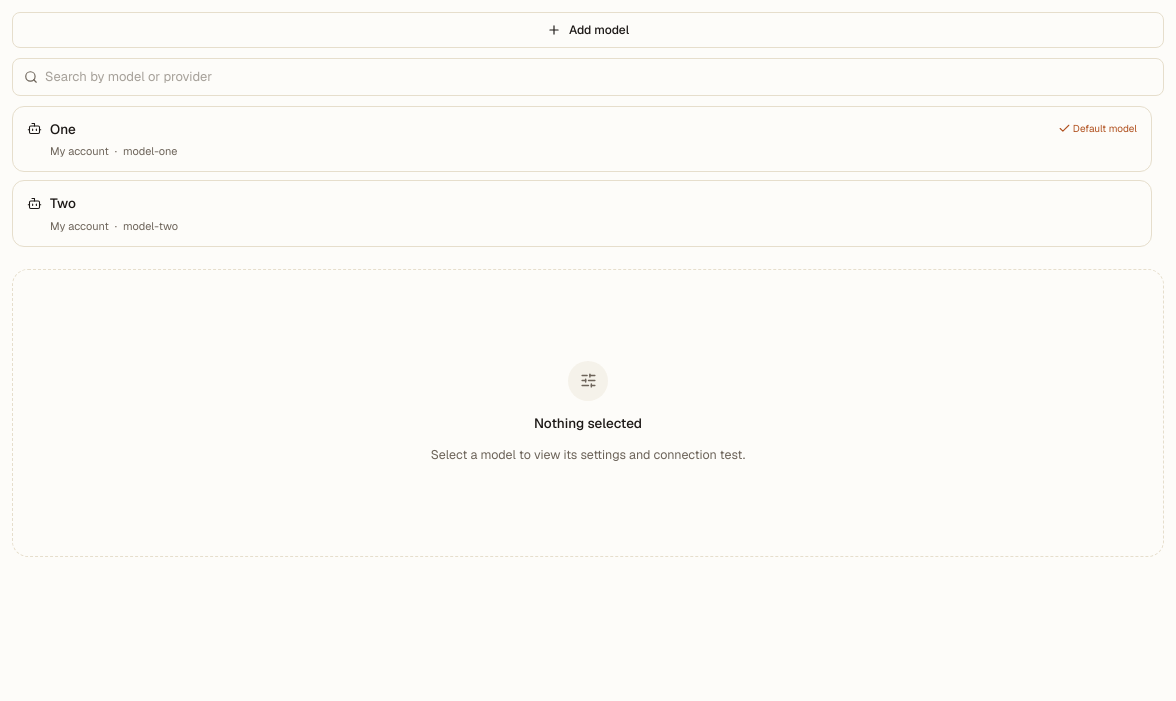
Scenario: keeps a flat model list, shows the selected identity, and never exposes credentials in model pages
Click the button "Two My account · model-two" at coordinates (79, 226), box [12,180,1152,247]
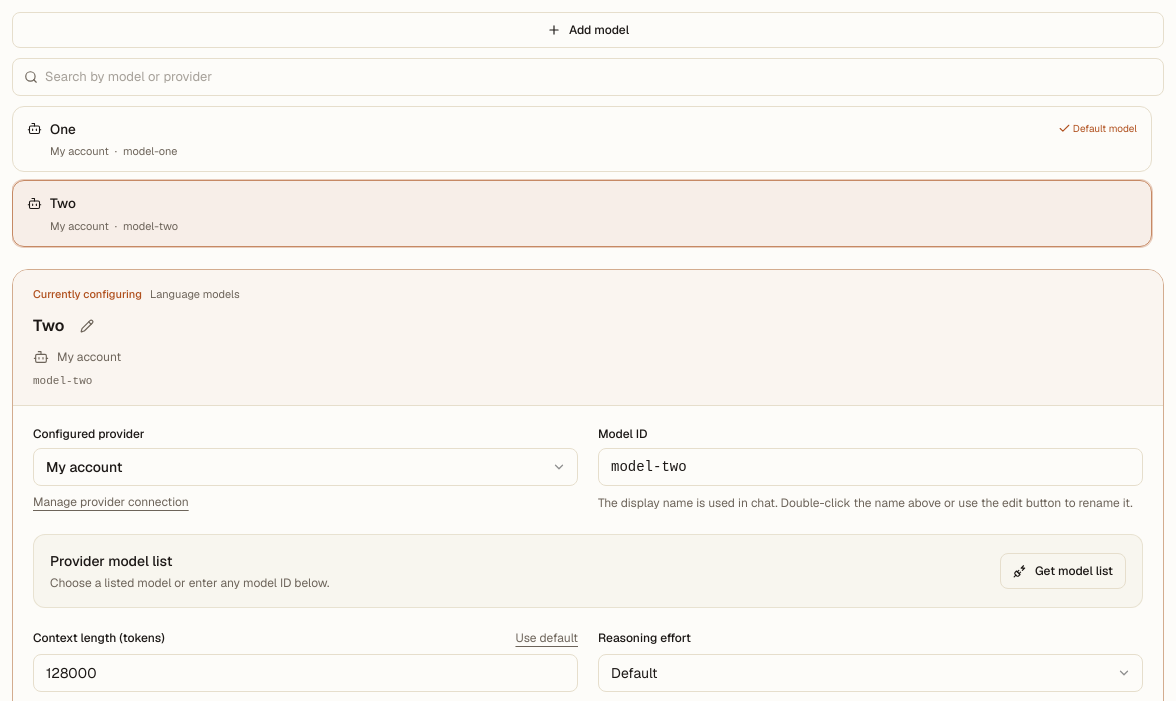
Check: the heading "Two" is shown, box [33,314,64,338]
Check: the dropdown labelled "Model ID" holds "model-two", box [598,448,1143,486]
Check: the number field labelled "Context length (tokens)" holds "128000", box [33,654,578,692]
Click the button named "Rename model" at coordinates (87, 326), box [72,310,102,340]
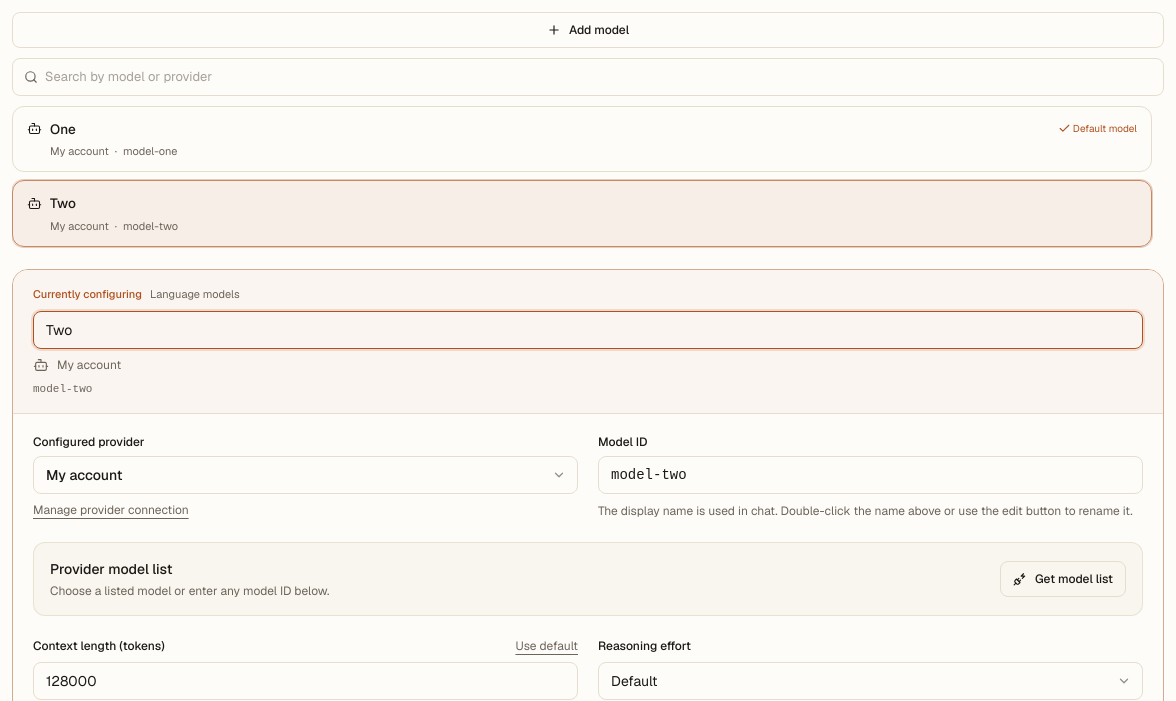
Replace the text in the field named "Rename model" with "My reasoning model" at coordinates (588, 330), box [33,310,1143,348]
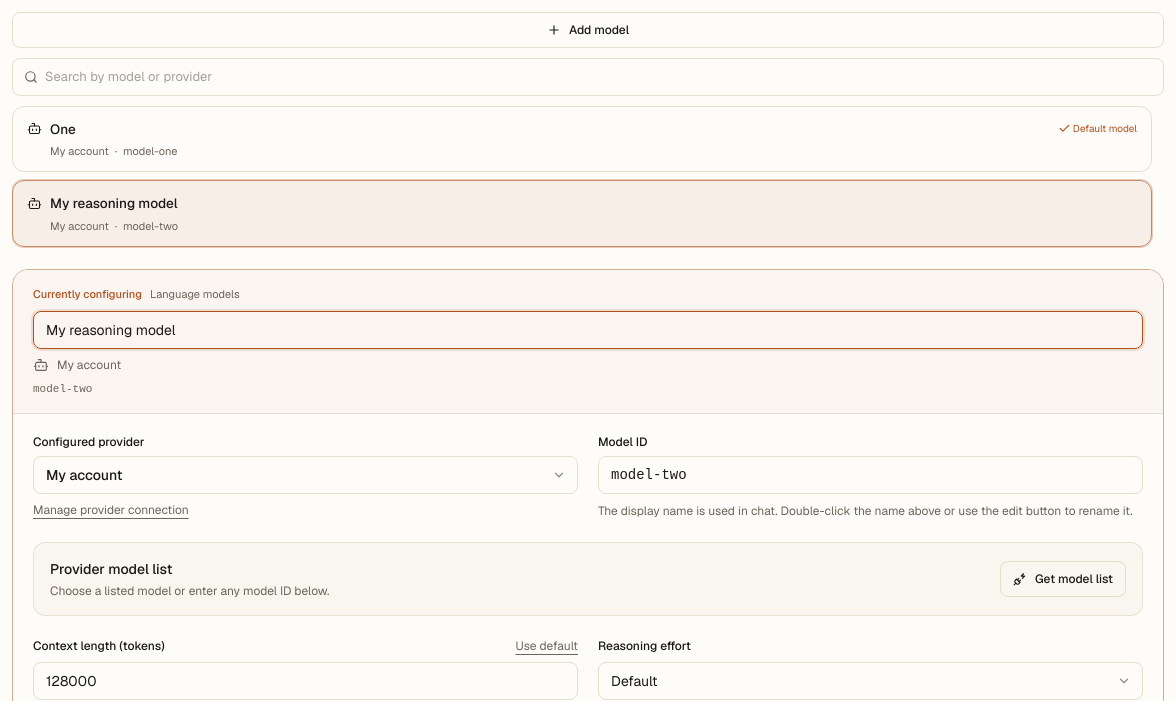
Leave the field named "Rename model", box [33,310,1143,348]
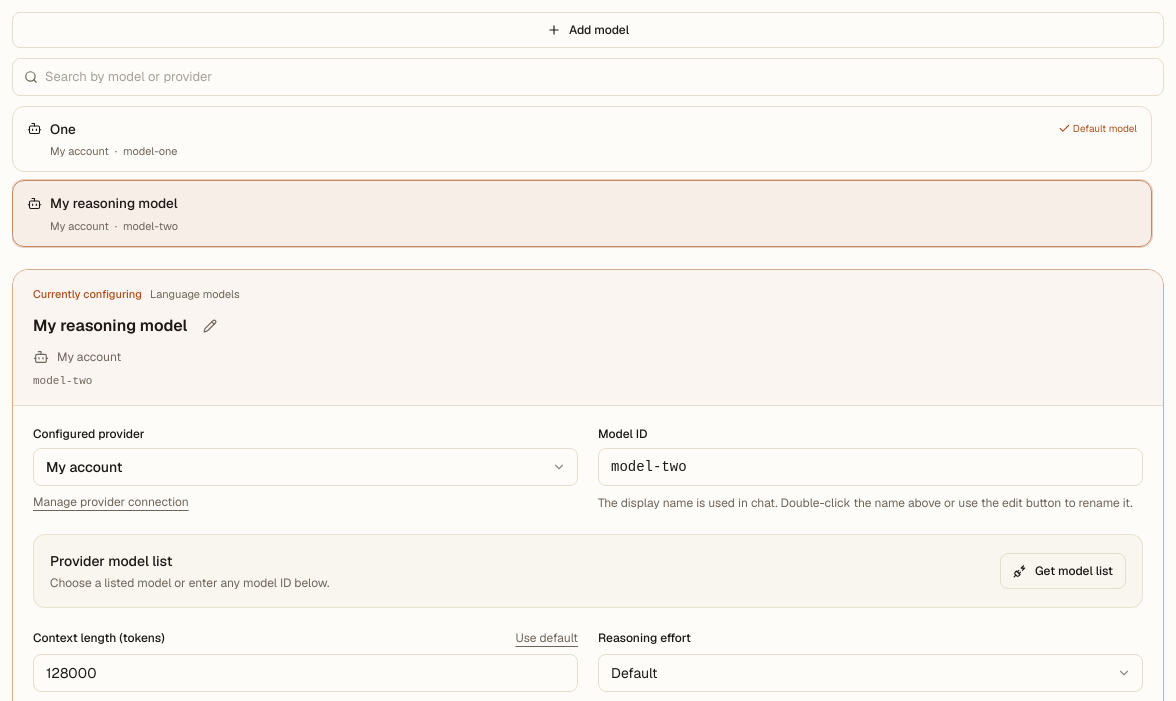
Check: the heading "My reasoning model" is shown, box [33,314,187,338]
